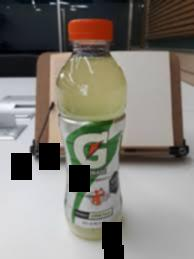gatorade_lemon: (54, 16, 128, 242)
